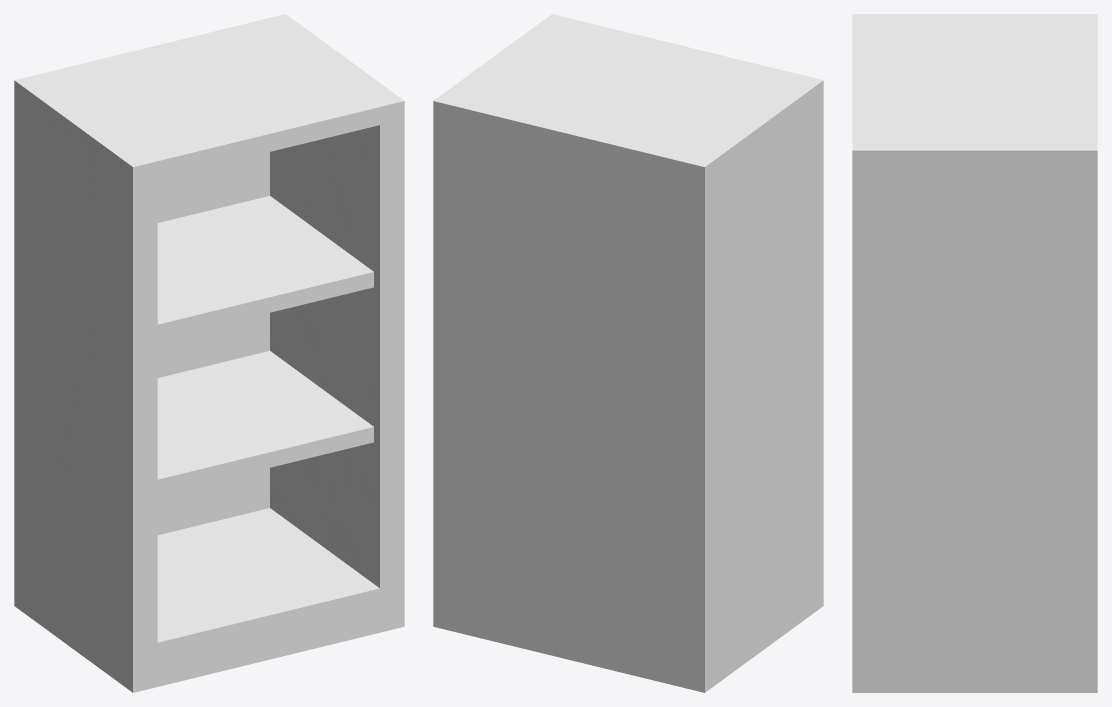
The model's file is Shelves_3A.fbx.
3 renders of one model, left to right at view 1: azimuth 30°, elevation 25°; view 2: azimuth 150°, elevation 25°; view 3: azimuth 270°, elevation 25°, orthographic. The views are drawn at different scales.
Visible parts, largest first — view 1: polySurface232; view 2: polySurface232; view 3: polySurface232.
Boxes of the visible parts, x1=… form: polySurface232: x1=14, y1=14, x2=404, y2=692; polySurface232: x1=433, y1=14, x2=823, y2=692; polySurface232: x1=852, y1=14, x2=1097, y2=692.
Size of the model in its own units: 1.1 by 2.03 by 0.8338.
Materials: 1 (1 with a texture image).
